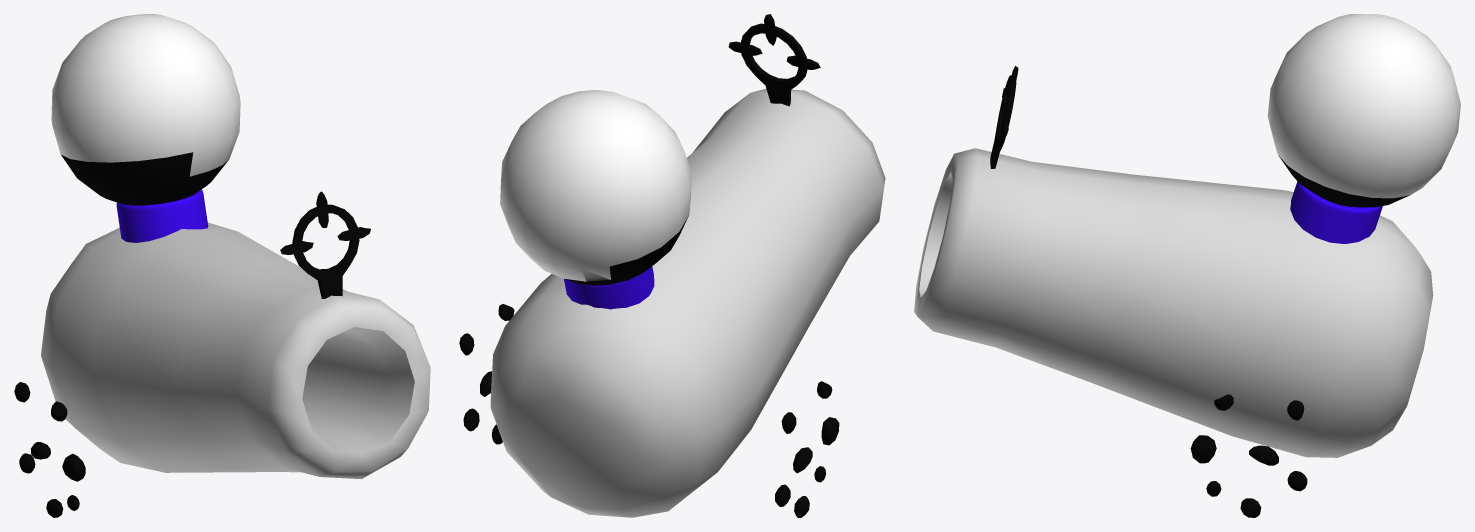
The model's file is HavanTopu.FBX.
The picture shows the model from 3 angles, left to right: view 1: azimuth 30°, elevation 25°; view 2: azimuth 150°, elevation 25°; view 3: azimuth 270°, elevation 25°; orthographic projection.
Visible parts, largest first — view 1: HavanNamlu, TekerVeCam, Tutac; view 2: HavanNamlu, TekerVeCam, Tutac; view 3: HavanNamlu, TekerVeCam, Tutac.
Boxes of the visible parts, x1,y1,x2,y2 form: HavanNamlu: (41,191,430,479); TekerVeCam: (14,14,240,517); Tutac: (116,189,208,242); HavanNamlu: (490,14,885,517); TekerVeCam: (459,90,839,517); Tutac: (564,266,654,309); HavanNamlu: (914,66,1433,457); TekerVeCam: (1190,14,1460,517); Tutac: (1290,181,1382,243).
Size of the model in its own units: 692 by 839 by 982.
